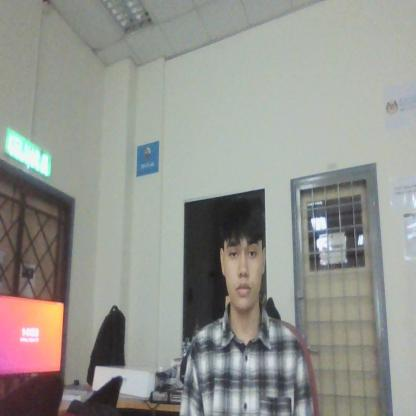Open-Eyes: (224, 237, 260, 264)
